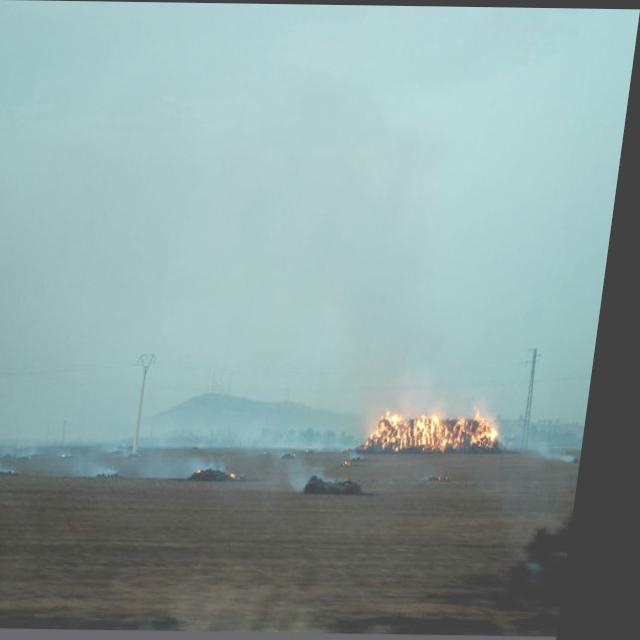Fire: (374, 404, 514, 457)
